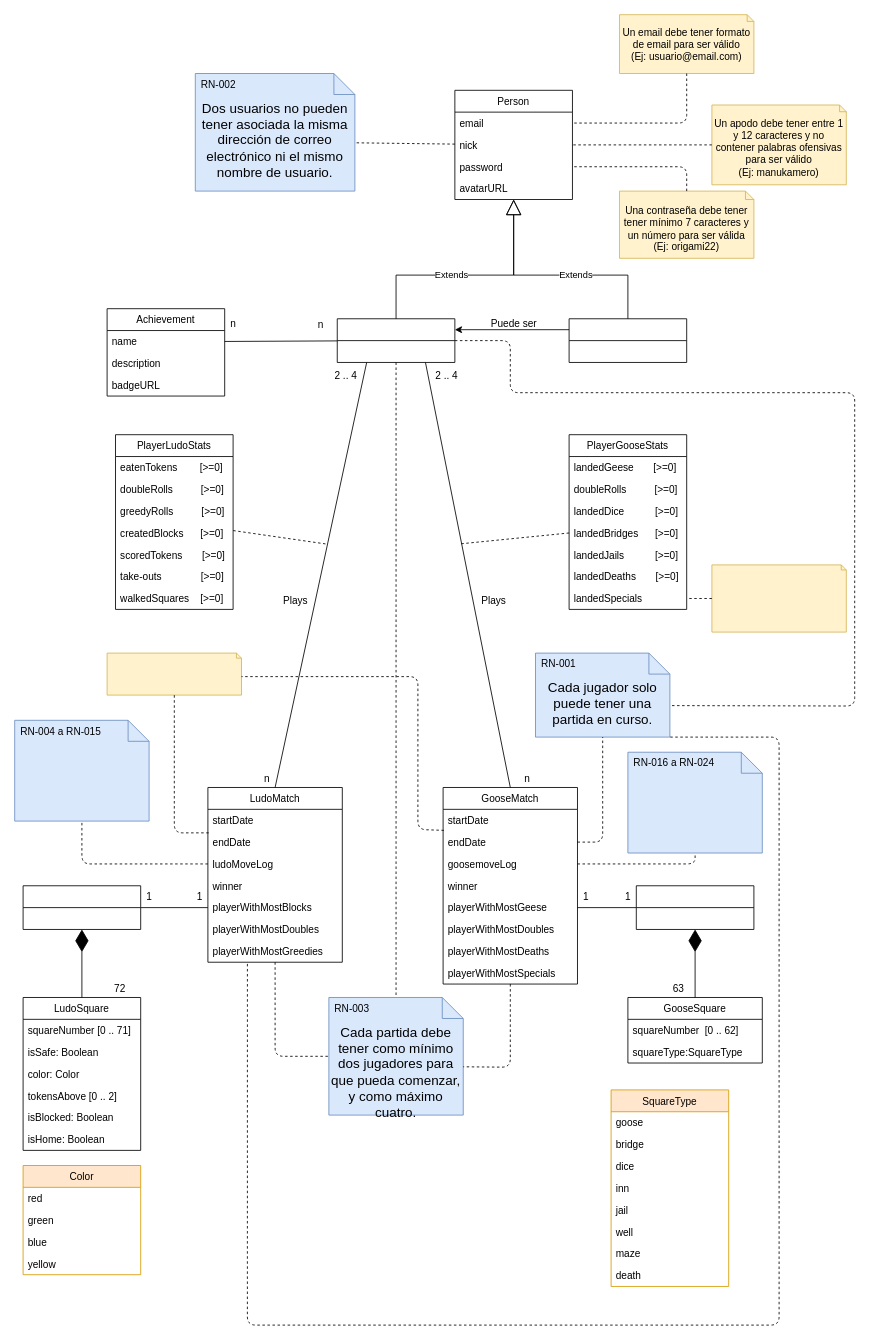
Image size: 870x1341. Some labels were removed from this diagram. Here are the shapes that lost their labels. From the top down, the centre of each, then its label:
At (395,340): "Player".
At (627,340): "Admin".
At (778,598): "landedSpecials >= landedGeese + landedBrudges + landedJails + landedDeaths".
At (174,673): "endDate == null o startDate<=endDate".
At (81,770): "Reglas de negocio relacionadas con el transcurso de una partida de parchís".
At (694,802): "Reglas de negocio relacionadas con el transcurso de una partida de oca.".
At (81,907): "LudoBoard".
At (694,907): "GooseBoard".
